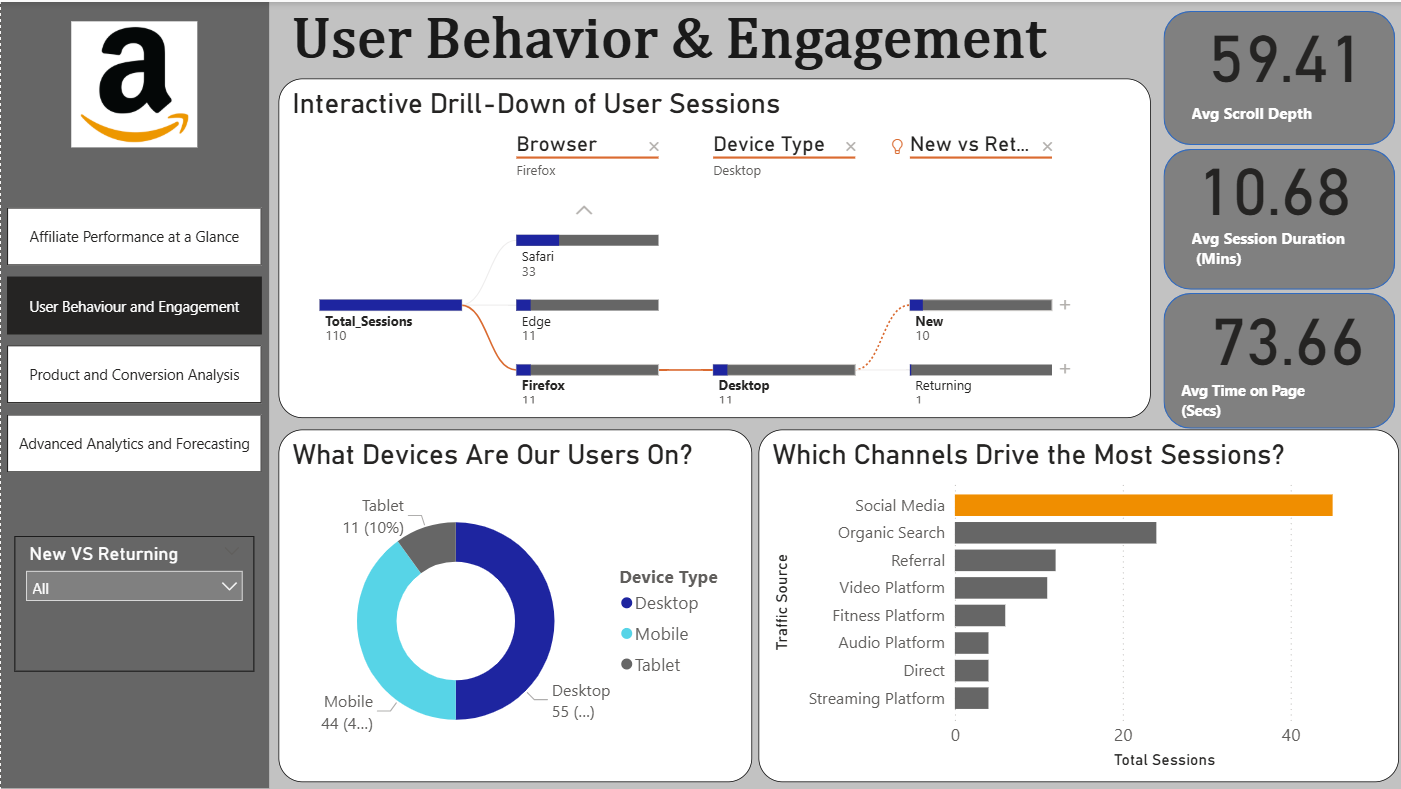

What the dashboard file says about the page in this screenshot:
{"tool":"powerbi","page":{"name":"User Behaviour and Engagement","canvas":[1280,720],"ordinal":1},"visuals":[{"type":"textbox","box":[100,11.7,590,60],"z":0},{"type":"card","fields":{"Values":["_Key Measures.Avg_page_time"]},"box":[245,503.3,218.3,200],"z":1000},{"type":"card","fields":{"Values":["_Key Measures.Avg_Scroll_Depth"]},"box":[477,502.7,213.5,199.9],"z":2000},{"type":"barChart","title":"Which Channels Drive the Most Sessions?","fields":{"Category":["Sessions.traffic_source"],"Y":["_Key Measures.No_of_sessions"]},"box":[710,11.7,553.3,348.3],"z":3000},{"type":"donutChart","title":"What Devices Are Our Users On?","fields":{"Y":["_Key Measures.Total_Sessions"],"Series":["Sessions.device_type"]},"box":[710,373.3,553.3,330],"z":4000},{"type":"decompositionTreeVisual","title":"Interactive Drill-Down of User Sessions","fields":{"Analyze":["_Key Measures.Total_Sessions"],"ExplainBy":["Sessions.browser","Sessions.device_type","Sessions.traffic_source","Sessions.new_vs_returning"]},"box":[9.1,86.3,681.4,405.8],"z":5000},{"type":"card","fields":{"Values":["_Key Measures.Avg Session Duration (Mins)"]},"box":[10,503.3,223.3,200],"z":6000},{"type":"image","box":[8.3,0,91.7,86.7],"z":7000},{"type":"slicer","fields":{"Values":["Sessions.new_vs_returning"]},"box":[477.6,411.7,197.6,65.9],"z":8000}]}

Visuals, with their boxes in screenshot pixels (x1, y1, x2, y2), scaled from the page's 1280x720 canvas onto the 1401x789 screenshot:
textbox: <box>109,13,755,79</box>
card - _Key Measures.Avg_page_time: <box>268,552,507,771</box>
card - _Key Measures.Avg_Scroll_Depth: <box>522,551,756,770</box>
"Which Channels Drive the Most Sessions?" barChart: <box>777,13,1383,395</box>
"What Devices Are Our Users On?" donutChart: <box>777,409,1383,771</box>
"Interactive Drill-Down of User Sessions" decompositionTreeVisual: <box>10,95,756,539</box>
card - _Key Measures.Avg Session Duration (Mins): <box>11,552,255,771</box>
image: <box>9,0,109,95</box>
slicer - Sessions.new_vs_returning: <box>523,451,739,523</box>
